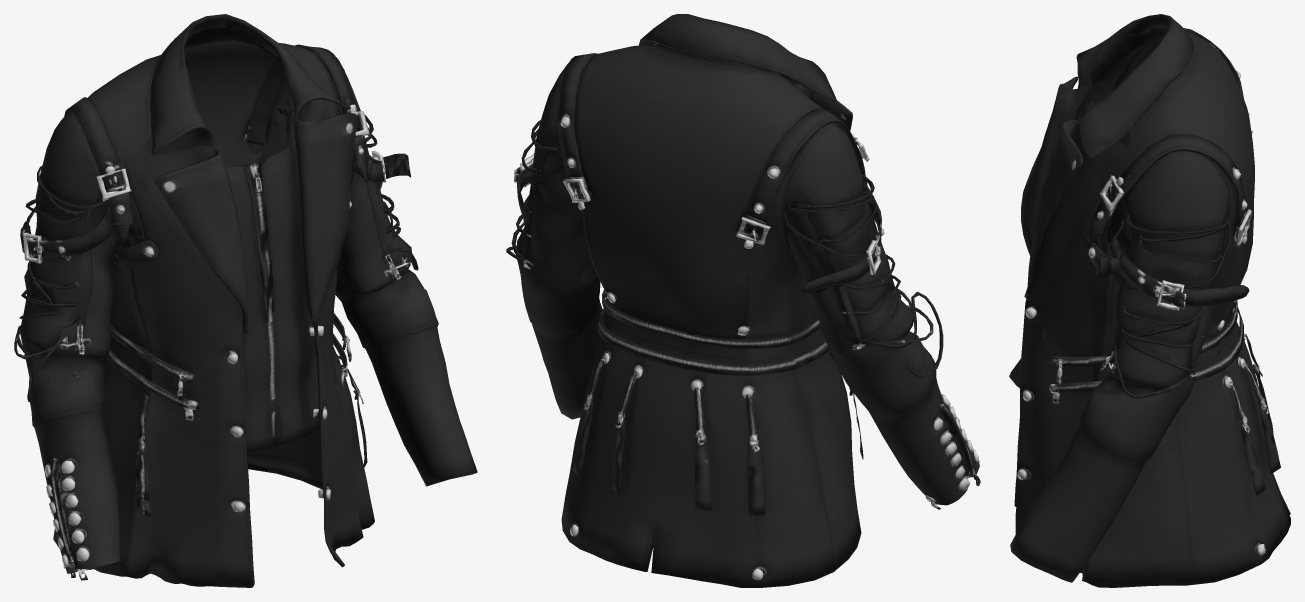
File: coat_leather.glb
The picture shows the model from 3 angles, left to right: view 1: azimuth 30°, elevation 25°; view 2: azimuth 150°, elevation 25°; view 3: azimuth 270°, elevation 25°; orthographic projection. The views are drawn at different scales.
Parts seen in each view (by area): view 1: Model; view 2: Model; view 3: Model.
Boxes of the visible parts, <box> form: Model: <box>14,14,477,587</box>; Model: <box>506,14,980,587</box>; Model: <box>1009,14,1290,587</box>.
Bounding box in the file's own units: 0.8357 × 1 × 0.5068.
1 material, 1 textured.
